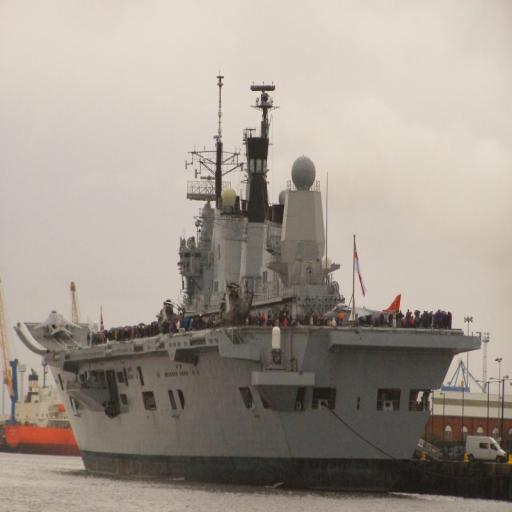Portanaves: (17, 54, 485, 496)
